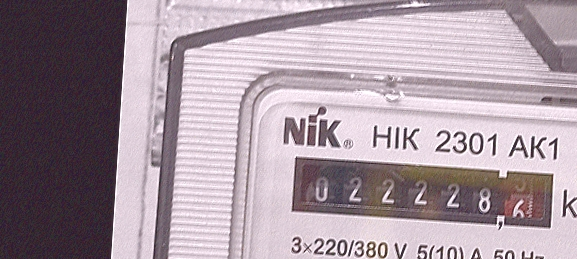0: (311, 174, 329, 204)
2: (344, 174, 365, 205), (410, 178, 429, 207), (444, 181, 462, 211), (378, 177, 396, 206)
5: (511, 174, 528, 194)
6: (509, 197, 527, 219)
8: (475, 186, 492, 215)
screen: (282, 145, 564, 238)
